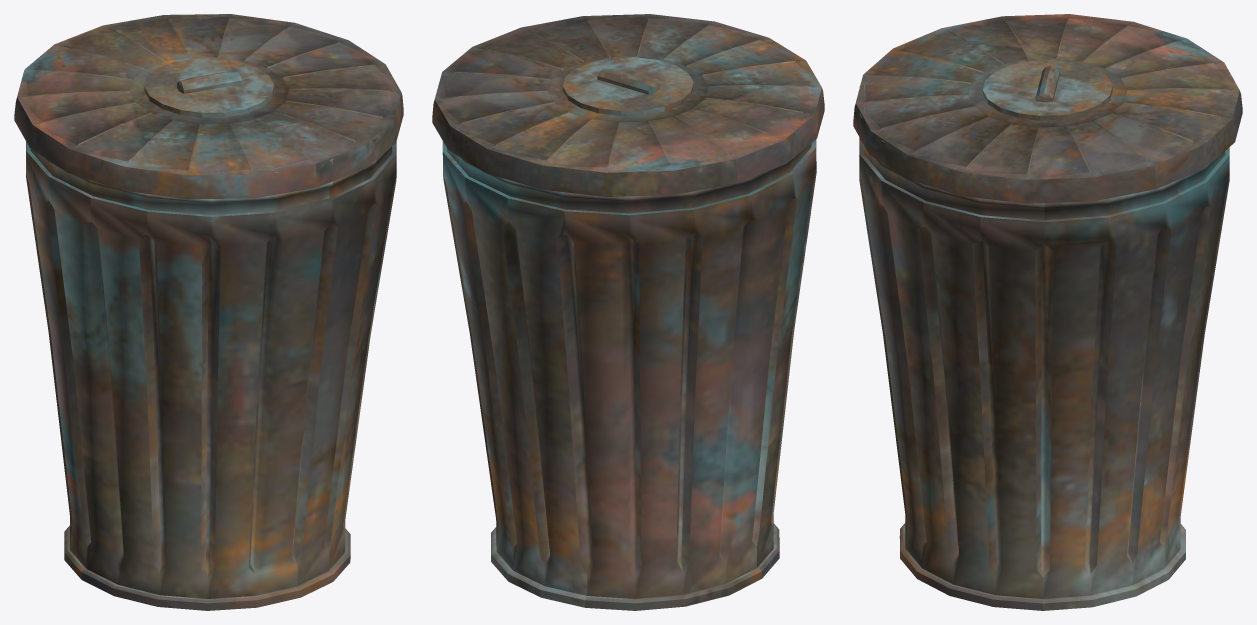
The model's file is thrashbin.02.fbx.
The picture shows the model from 3 angles, left to right: view 1: azimuth 30°, elevation 25°; view 2: azimuth 150°, elevation 25°; view 3: azimuth 270°, elevation 25°; orthographic projection.
Parts seen in each view (by area): view 1: polySurface11, polySurface10; view 2: polySurface11, polySurface10; view 3: polySurface11, polySurface10.
Part boxes in pixels (bbox=[...]): polySurface11: bbox=[26, 113, 397, 610]; polySurface10: bbox=[14, 14, 403, 199]; polySurface11: bbox=[442, 19, 816, 610]; polySurface10: bbox=[432, 14, 824, 196]; polySurface11: bbox=[859, 59, 1229, 610]; polySurface10: bbox=[853, 14, 1242, 203].
Size of the model in its own units: 51.12 by 69.06 by 51.35.
